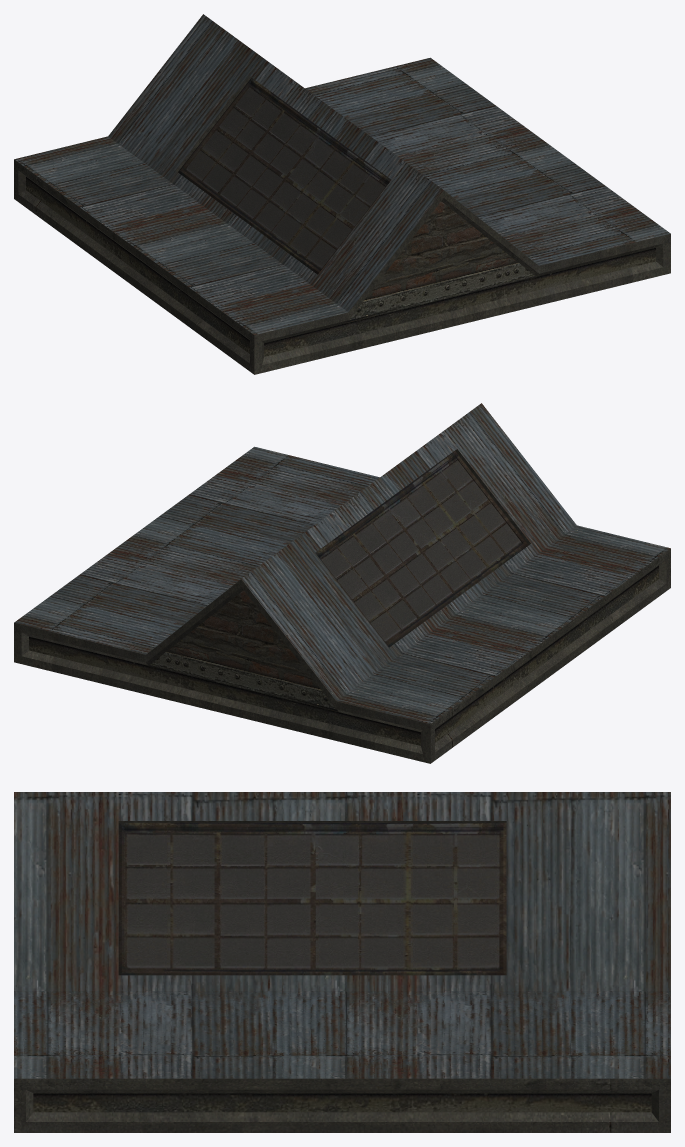
Rendered from roof_bx_1_corner_2.obj.
3 renders of one model, top to bottom at view 1: azimuth 30°, elevation 25°; view 2: azimuth 150°, elevation 25°; view 3: azimuth 270°, elevation 25°, orthographic. The views are drawn at different scales.
Parts seen in each view (by area): view 1: roof_bx_1_corner_2; view 2: roof_bx_1_corner_2; view 3: roof_bx_1_corner_2.
Boxes of the visible parts, bbox=[...] form: roof_bx_1_corner_2: bbox=[14, 14, 670, 374]; roof_bx_1_corner_2: bbox=[14, 403, 670, 763]; roof_bx_1_corner_2: bbox=[14, 792, 670, 1132].
Bounding box in the file's own units: 4.4 × 1.4 × 4.4.
